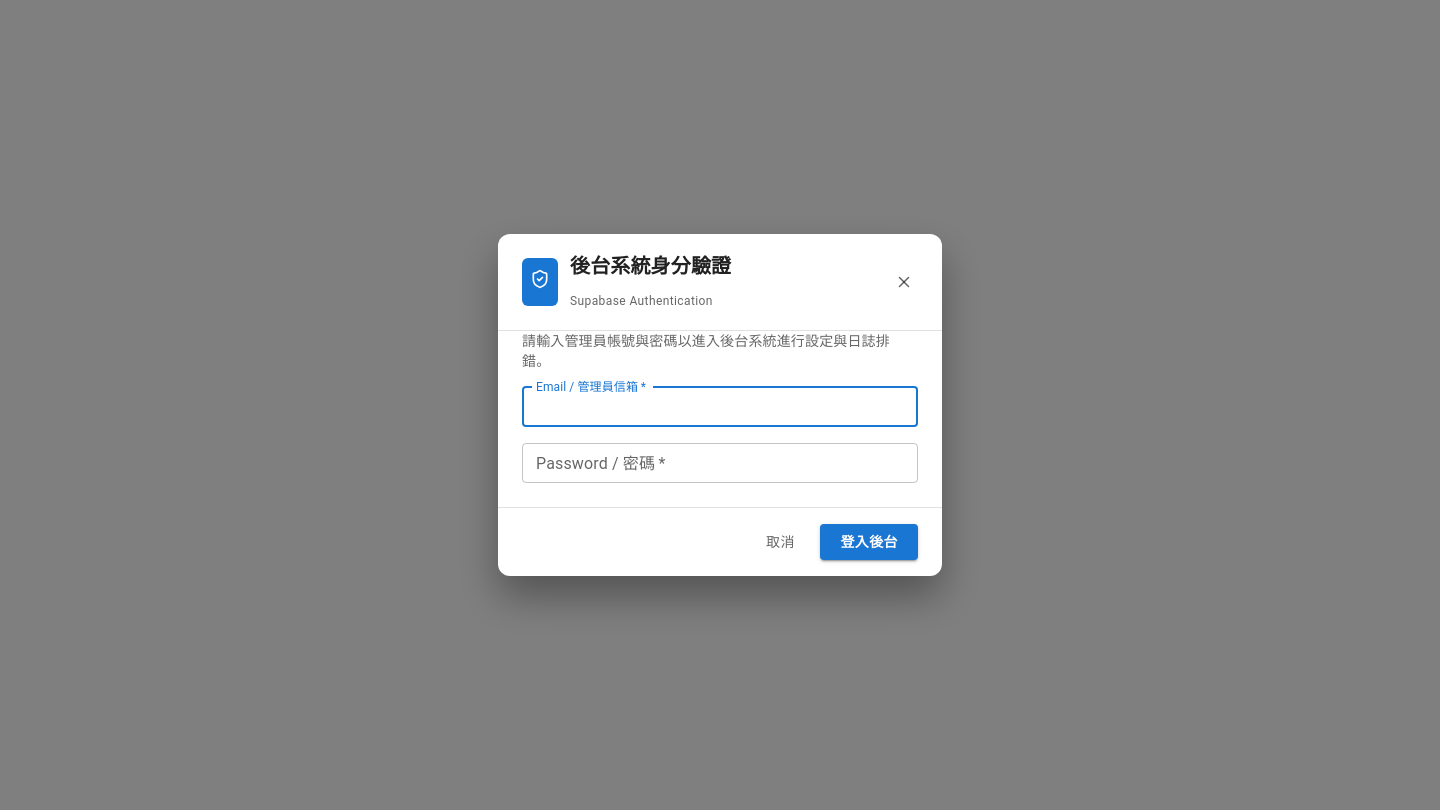
it: AdminLoginModal Component › displays error message when login fails
Step 1. Type "wrong@user.com" into the field labelled "Email / 管理員信箱 *" → (720, 407), box [522,387,918,427]
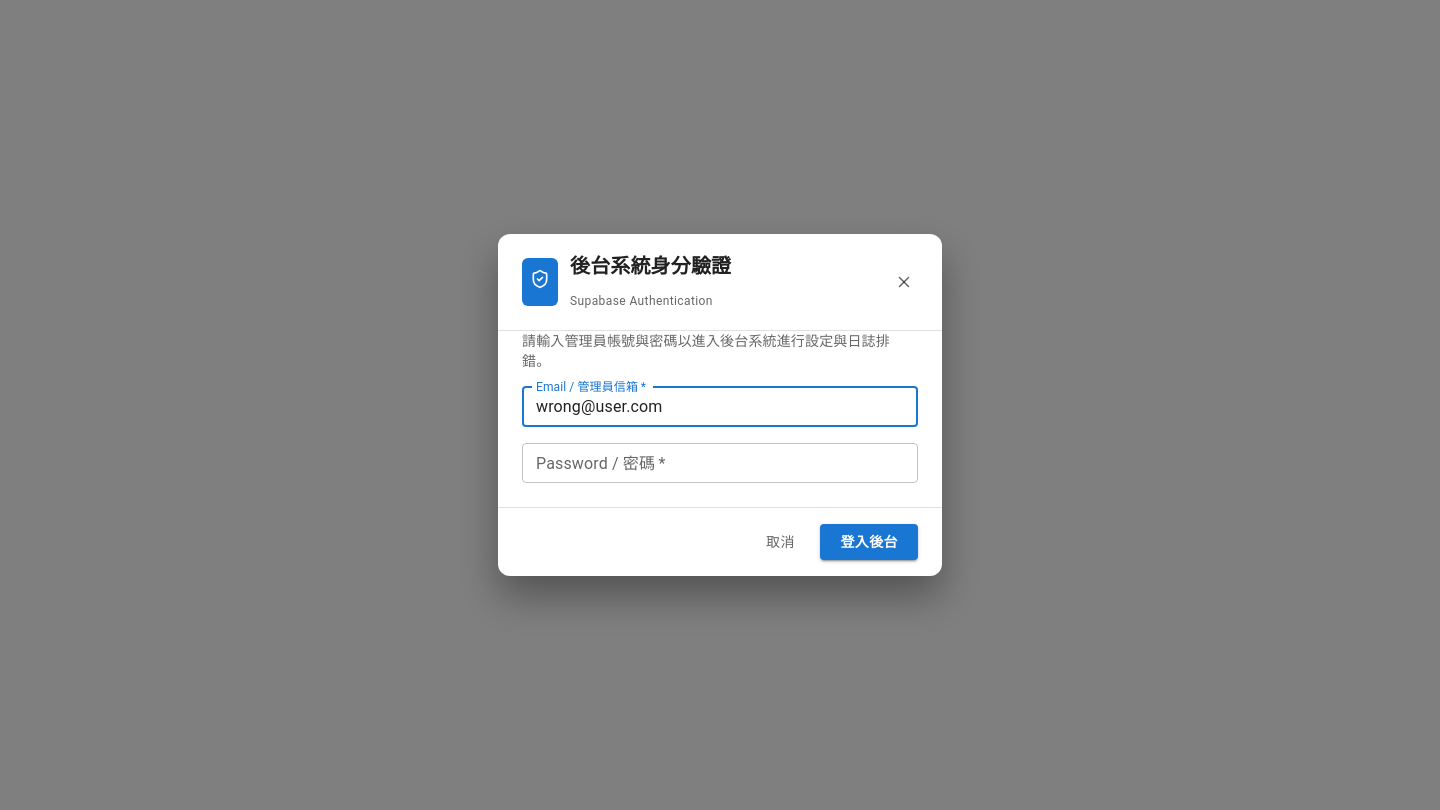
Step 2. Type "badpass" into the password field labelled "Password / 密碼 *" → (720, 463), box [522,443,918,483]
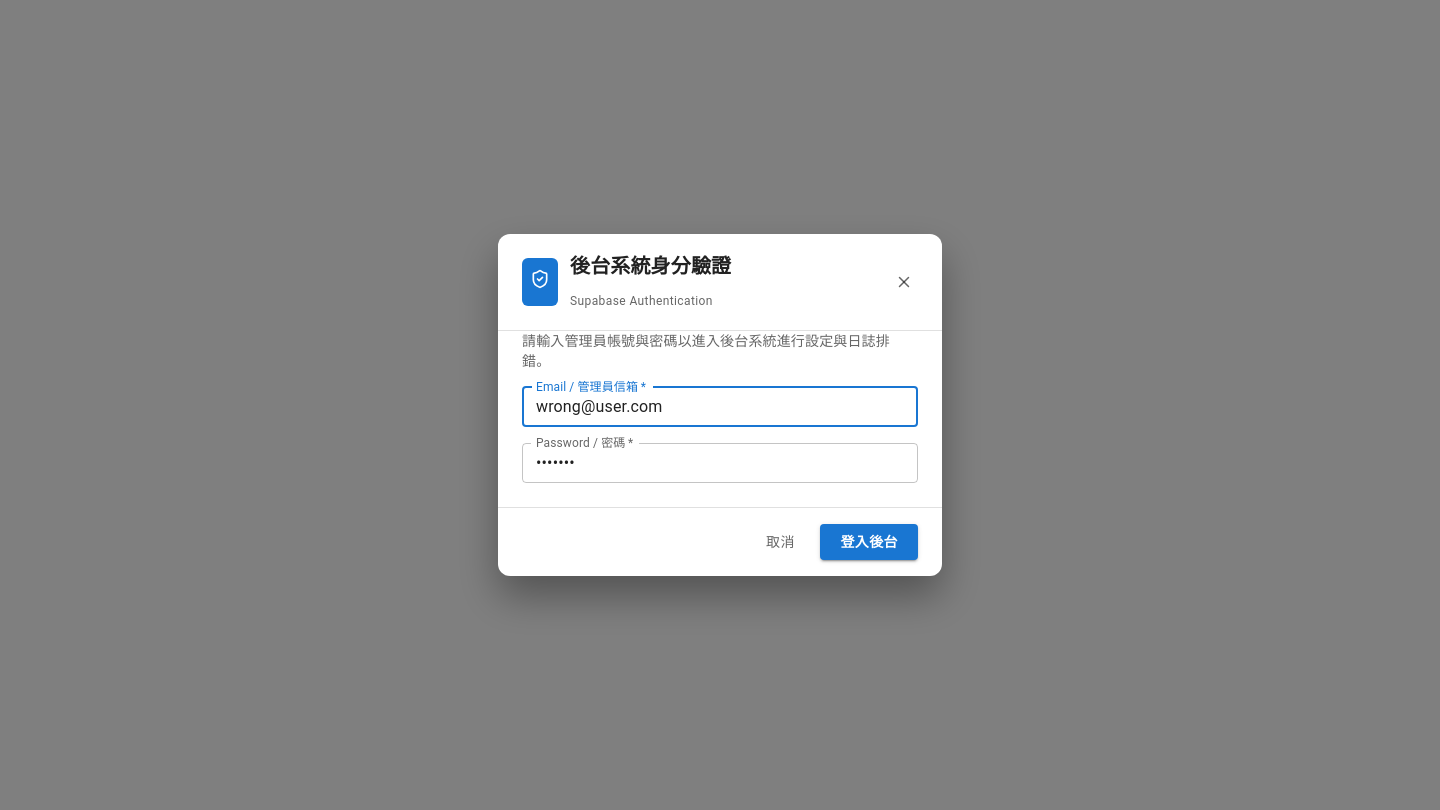
Step 3. Click the button "登入後台" → click(869, 542), box [820,524,918,560]
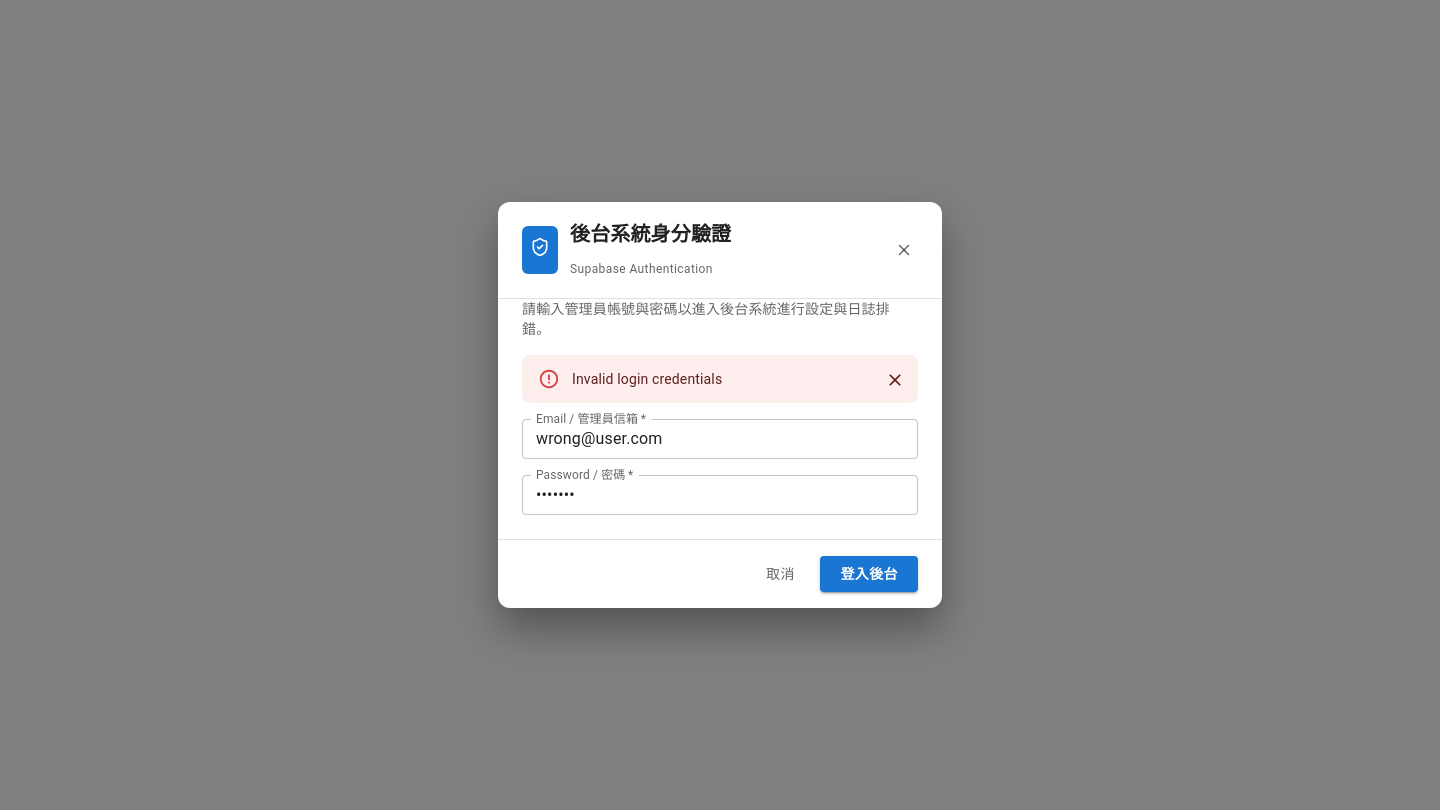
Expected: the text "Invalid login credentials" is shown, [572,371,722,387]
